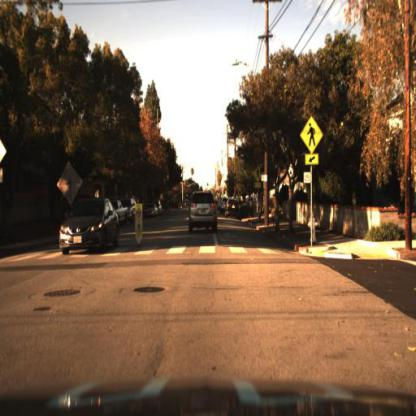car: (57, 195, 121, 259), (60, 195, 122, 260), (187, 189, 221, 237), (113, 195, 131, 225), (124, 196, 142, 226), (140, 201, 161, 222), (226, 197, 243, 221)
